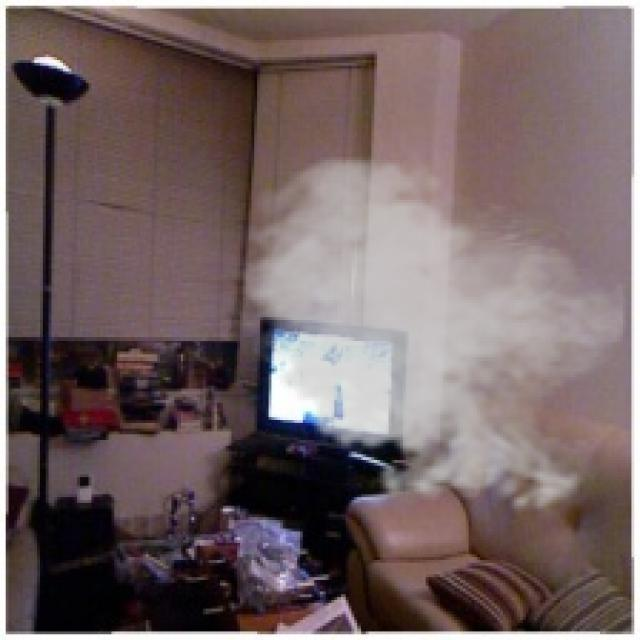smoke: (226, 148, 628, 523)
